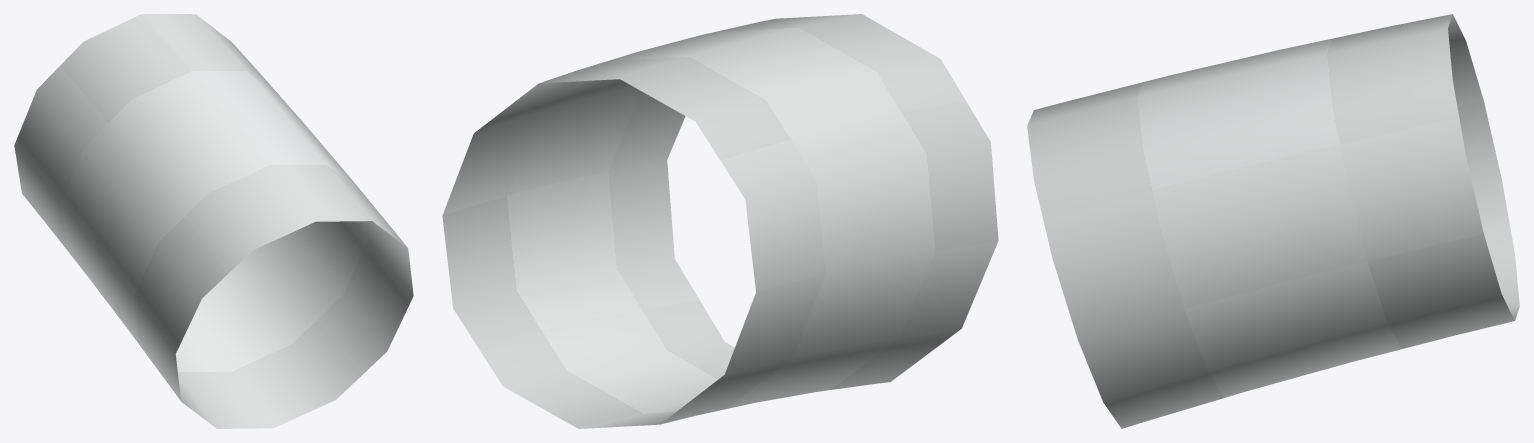
File: luminairearm_caltrans6ft_c1.obj
3 renders of one model, left to right at view 1: azimuth 30°, elevation 25°; view 2: azimuth 150°, elevation 25°; view 3: azimuth 270°, elevation 25°, orthographic. The views are drawn at different scales.
Visible parts, largest first — view 1: luminairearm_caltrans6ft_c1; view 2: luminairearm_caltrans6ft_c1; view 3: luminairearm_caltrans6ft_c1.
Part boxes in pixels (box(x1,y1,x2,y2)): luminairearm_caltrans6ft_c1: box(14, 14, 413, 428); luminairearm_caltrans6ft_c1: box(442, 14, 998, 428); luminairearm_caltrans6ft_c1: box(1027, 14, 1519, 428).
Bounding box in the file's own units: 0.2188 × 0.279 × 0.3241.
